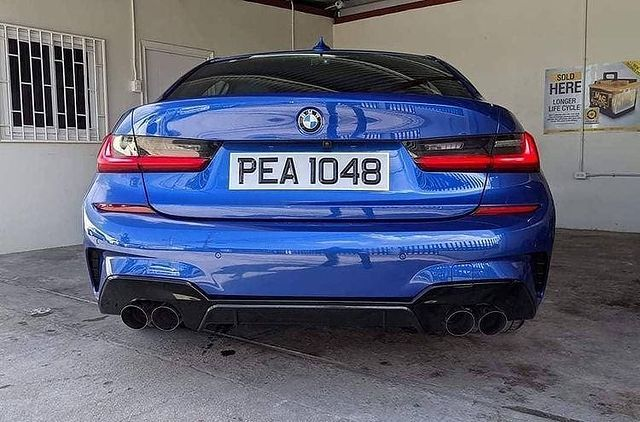License-Plate: (229, 153, 388, 189)
